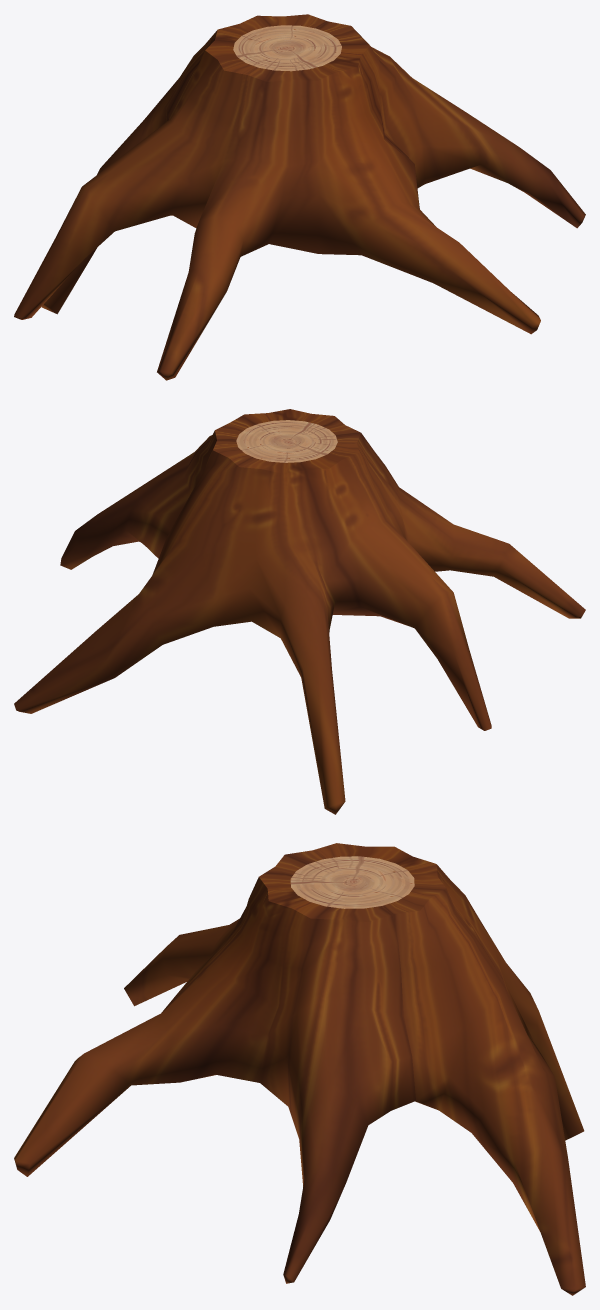
The model's file is obj_harvests_trees_pine03_p00.fbx.
3 renders of one model, top to bottom at view 1: azimuth 30°, elevation 25°; view 2: azimuth 150°, elevation 25°; view 3: azimuth 270°, elevation 25°, orthographic. The views are drawn at different scales.
Parts seen in each view (by area): view 1: chunk00; view 2: chunk00; view 3: chunk00.
Part boxes in pixels (x1,y1,x2,y2): chunk00: [14, 14, 585, 380]; chunk00: [14, 409, 585, 814]; chunk00: [14, 843, 585, 1295].
Bounding box in the file's own units: 18.03 × 9.9 × 15.06.
